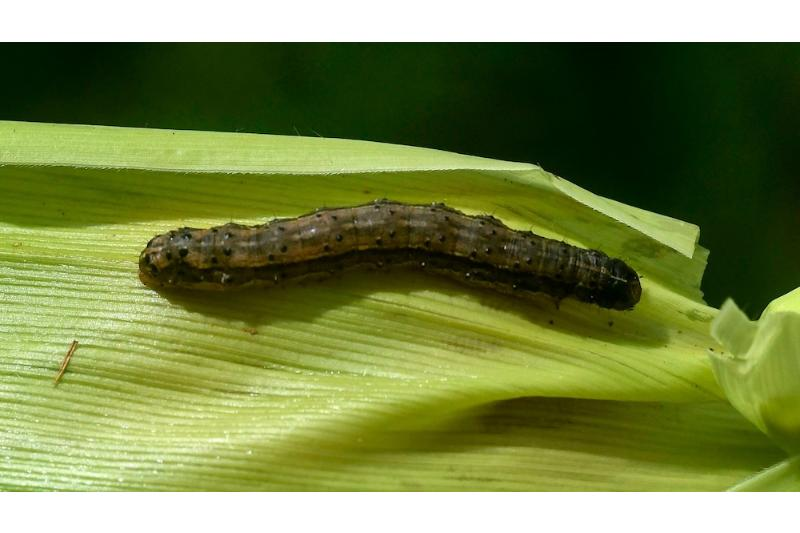fall-armyworm: (139, 199, 644, 312)
